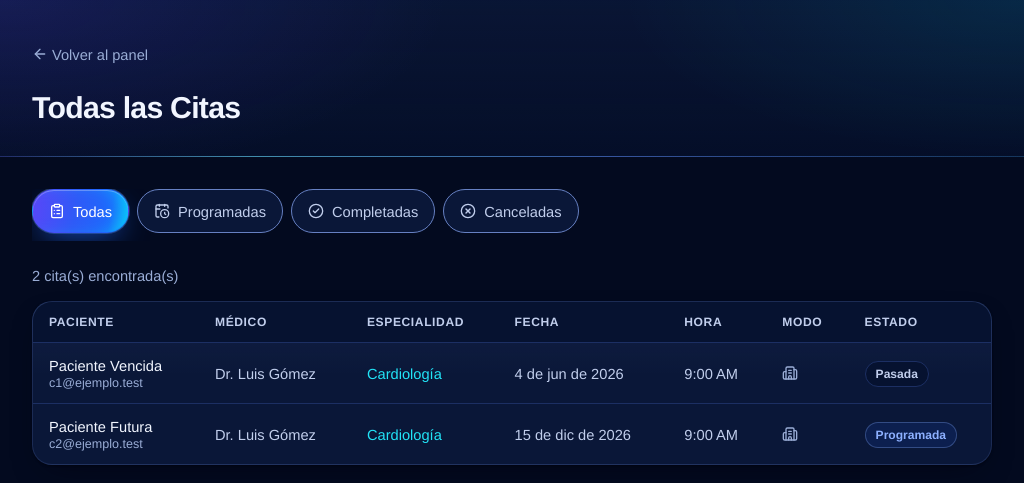
it: AdminAppointmentsPage: citas vencidas › la pestaña «Programadas» no incluye las citas vencidas
Click the button "Programadas": (210,211) x1=137 y1=189 x2=283 y2=233
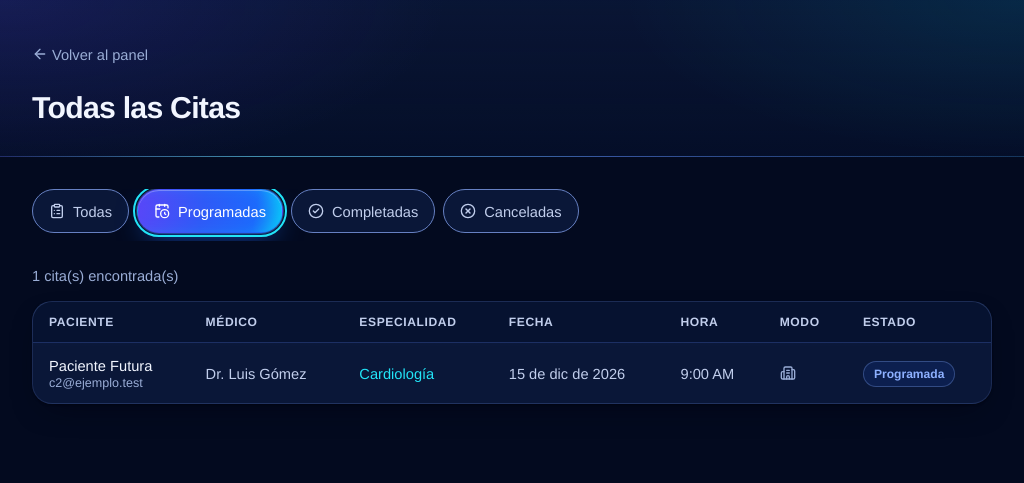
Expected: the text "Paciente Futura" is shown, x1=49 y1=356 x2=152 y2=374
Now the text "1 cita(s) encontrada(s)" is shown, box x1=32 y1=266 x2=178 y2=284
Now the text "Paciente Vencida" is gone
